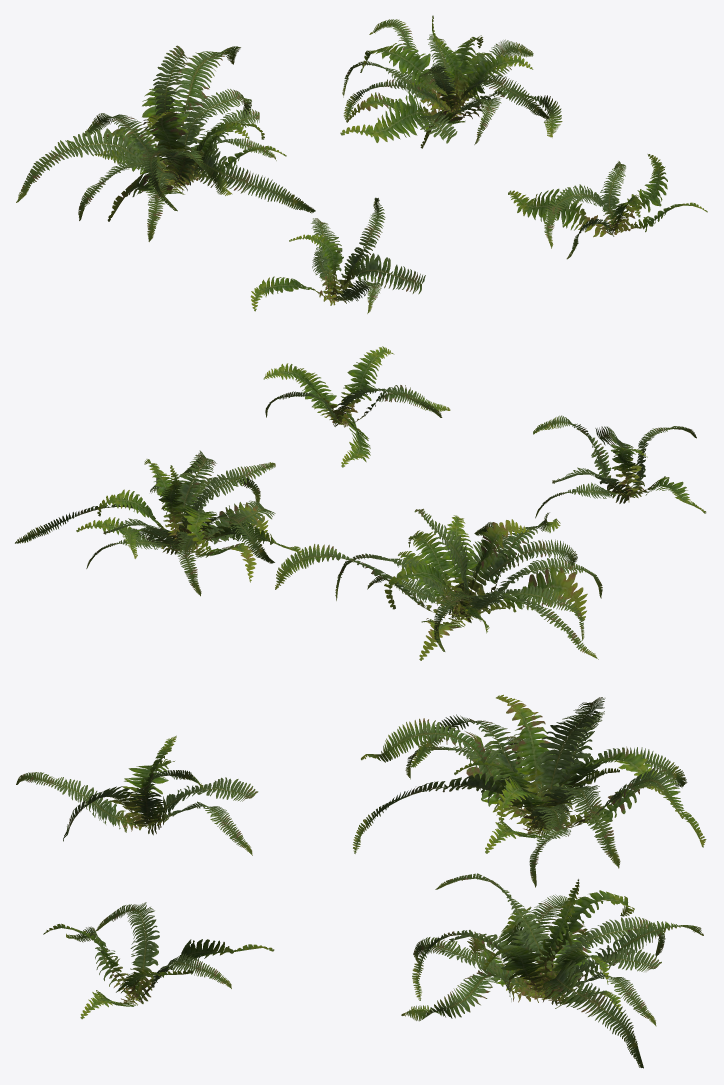
Rendered from fern.glb.
3 views of the same model, one above another, from view 1: azimuth 30°, elevation 25°; view 2: azimuth 150°, elevation 25°; view 3: azimuth 270°, elevation 25° (orthographic). The views are drawn at different scales.
Visible parts, largest first — view 1: fern_02_b, fern_02_c, fern_02_a, fern_02_d; view 2: fern_02_b, fern_02_c, fern_02_d, fern_02_a; view 3: fern_02_b, fern_02_c, fern_02_a, fern_02_d.
Part boxes in pixels (<box>): fern_02_b: <box>16,45,315,241</box>; fern_02_c: <box>340,15,562,148</box>; fern_02_a: <box>250,197,425,313</box>; fern_02_d: <box>508,154,707,259</box>; fern_02_b: <box>275,508,602,660</box>; fern_02_c: <box>15,450,301,596</box>; fern_02_d: <box>263,346,450,467</box>; fern_02_a: <box>533,415,706,518</box>; fern_02_b: <box>352,694,706,887</box>; fern_02_c: <box>401,873,703,1068</box>; fern_02_a: <box>16,735,258,855</box>; fern_02_d: <box>43,902,274,1019</box>.
Size of the model in its own units: 1.97 by 0.4277 by 1.72.
Materials: 1 (1 with a texture image).
